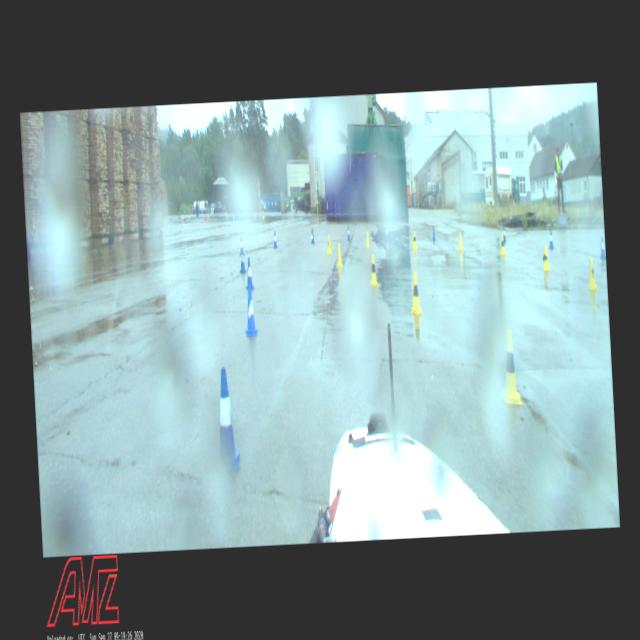blue_cone: (212, 366, 240, 471), (244, 282, 258, 336), (245, 258, 254, 290), (598, 236, 606, 258), (240, 248, 247, 272), (238, 236, 245, 256), (548, 230, 554, 249), (272, 230, 278, 248), (310, 228, 315, 244), (346, 225, 351, 241), (384, 226, 389, 242), (502, 226, 506, 242), (432, 224, 436, 240)
yellow_cone: (498, 329, 523, 406), (409, 272, 423, 314), (586, 257, 598, 291), (368, 254, 379, 286), (334, 244, 344, 268), (542, 244, 550, 270), (326, 234, 332, 254), (500, 234, 506, 253), (364, 231, 370, 249), (412, 231, 417, 249), (458, 232, 463, 250)
